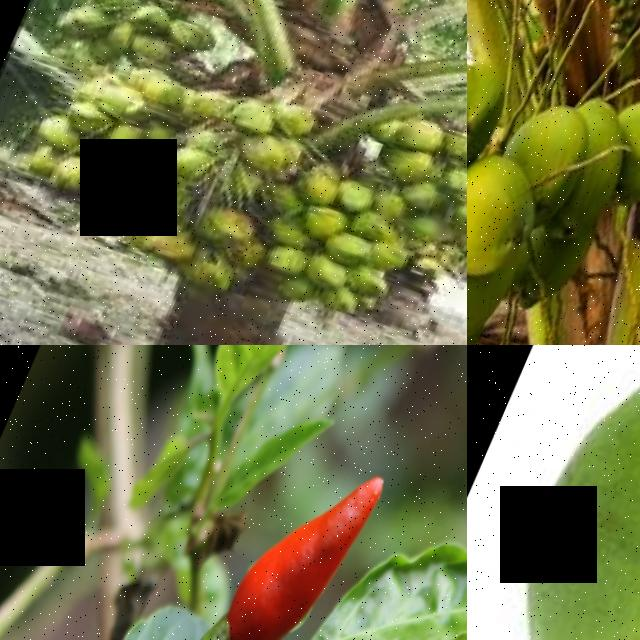chilli: (183, 432, 396, 640)
coconut: (467, 345, 640, 640)
coconuts: (467, 15, 608, 345), (10, 37, 198, 228), (262, 157, 424, 333), (110, 159, 268, 303), (168, 77, 315, 219), (55, 0, 218, 93), (368, 109, 467, 256)
